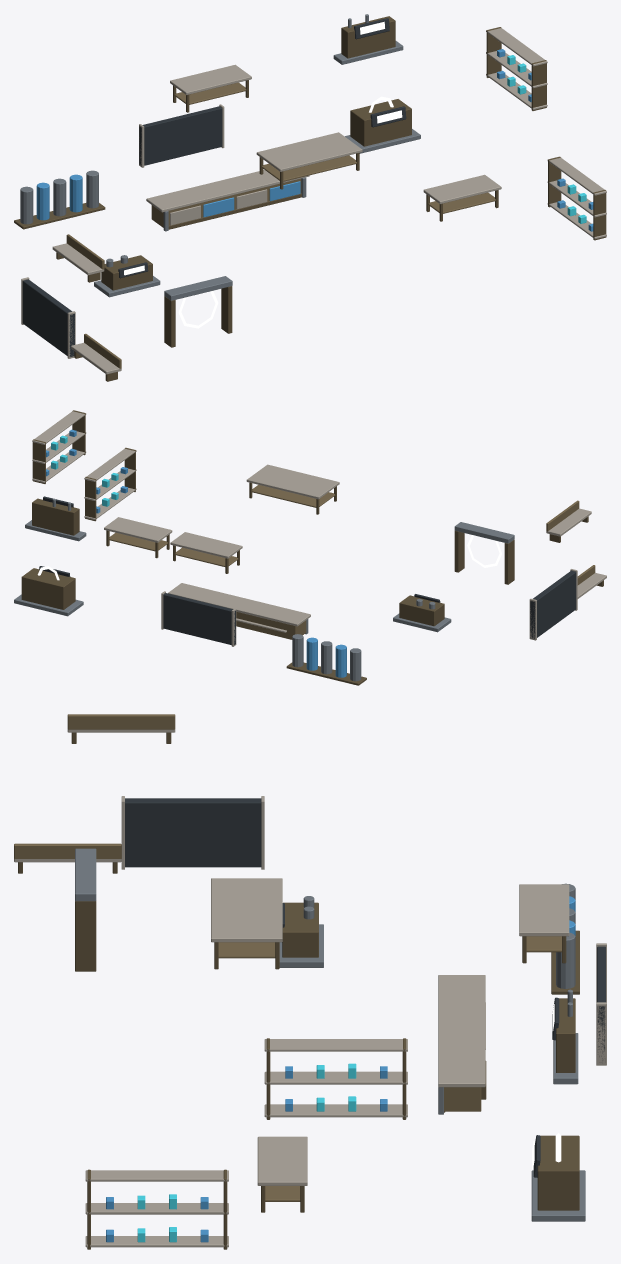
Rendered from eastgate_portal_office.lod1.glb.
3 renders of one model, top to bottom at view 1: azimuth 30°, elevation 25°; view 2: azimuth 150°, elevation 25°; view 3: azimuth 270°, elevation 25°, orthographic. The views are drawn at different scales.
Size of the model in its own units: 25.57 by 6.26 by 16.55.
